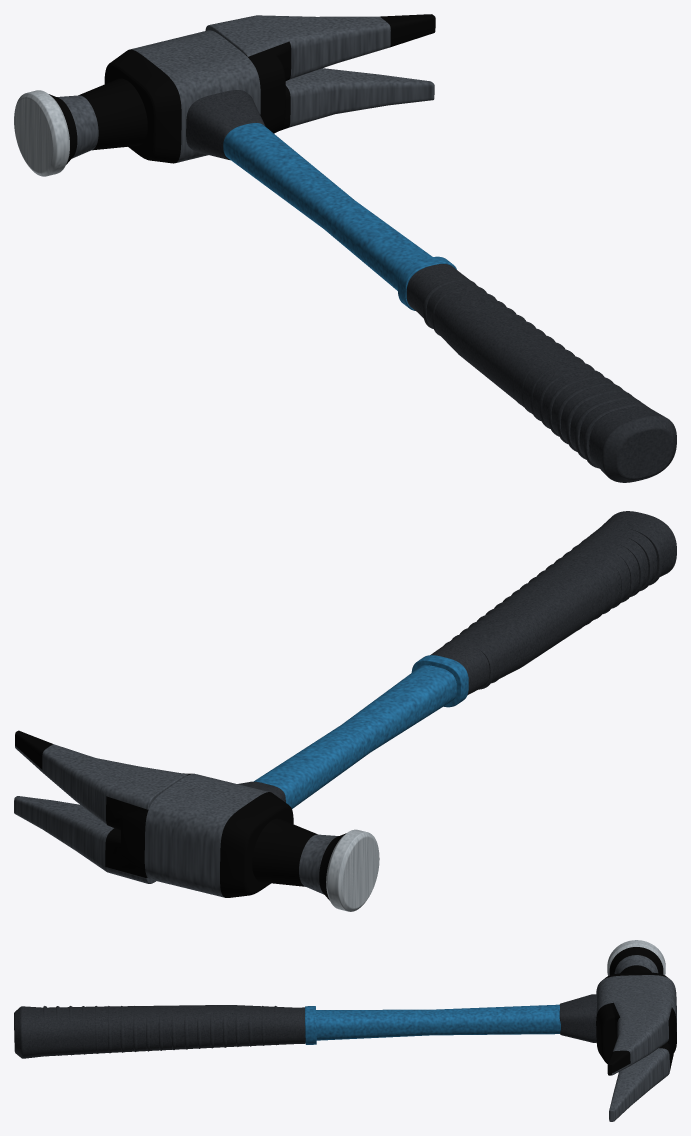
The model's file is hammer2.obj.
3 views of the same model, one above another, from view 1: azimuth 30°, elevation 25°; view 2: azimuth 150°, elevation 25°; view 3: azimuth 270°, elevation 25° (orthographic). The views are drawn at different scales.
Parts seen in each view (by area): view 1: Forged_head_with_split_claw.001, Moulded_rubber_grip, Composite_shaft, Ground_striking_face.001, Impact_protection_below_head, Coloured_grip_collar; view 2: Forged_head_with_split_claw.001, Moulded_rubber_grip, Composite_shaft, Ground_striking_face.001, Coloured_grip_collar; view 3: Moulded_rubber_grip, Forged_head_with_split_claw.001, Composite_shaft, Impact_protection_below_head, Ground_striking_face.001, Coloured_grip_collar.
Boxes of the visible parts, box(x1,y1,x2,y2) form: Forged_head_with_split_claw.001: box(49, 14, 435, 164); Moulded_rubber_grip: box(406, 264, 676, 482); Composite_shaft: box(223, 123, 432, 290); Ground_striking_face.001: box(14, 90, 69, 176); Impact_protection_below_head: box(186, 90, 265, 160); Coloured_grip_collar: box(398, 256, 456, 310); Forged_head_with_split_claw.001: box(14, 730, 345, 900); Moulded_rubber_grip: box(430, 511, 676, 695); Composite_shaft: box(254, 665, 456, 808); Ground_striking_face.001: box(326, 829, 379, 911); Coloured_grip_collar: box(411, 655, 468, 707); Moulded_rubber_grip: box(14, 1005, 305, 1058); Forged_head_with_split_claw.001: box(596, 947, 676, 1121); Composite_shaft: box(316, 1004, 560, 1040); Impact_protection_below_head: box(559, 994, 596, 1042); Ground_striking_face.001: box(607, 940, 665, 975); Coloured_grip_collar: box(305, 1006, 316, 1044).
Size of the model in its own units: 0.164 by 0.0413 by 0.3622.
Materials: 4 (4 with a texture image).
